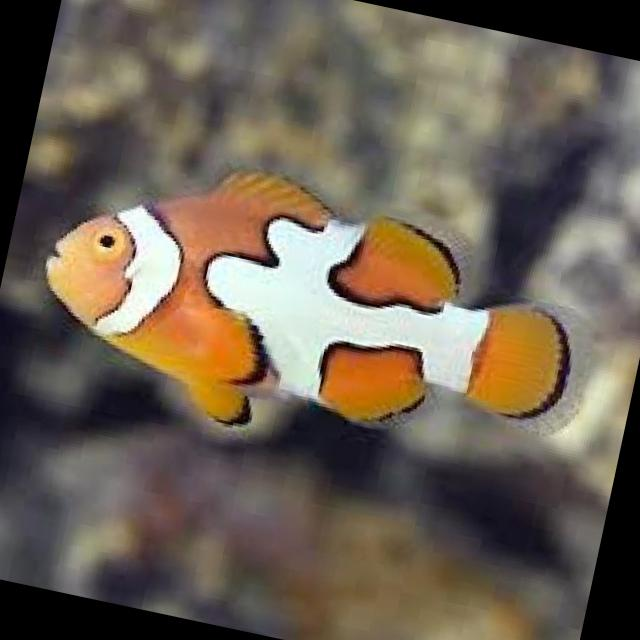ClownFish: (24, 134, 614, 491)
